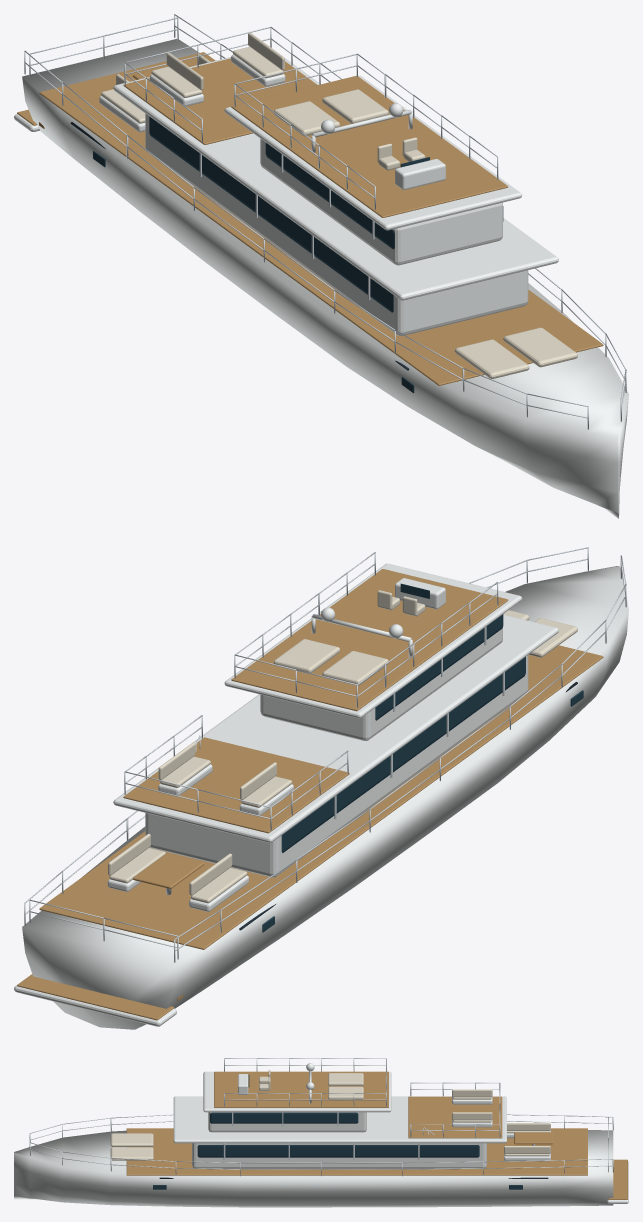
The model's file is SM_NC2_Yacht.fbx.
3 renders of one model, top to bottom at view 1: azimuth 30°, elevation 25°; view 2: azimuth 150°, elevation 25°; view 3: azimuth 270°, elevation 25°, orthographic. The views are drawn at different scales.
Parts seen in each view (by area): view 1: SM_NC2_Yacht; view 2: SM_NC2_Yacht; view 3: SM_NC2_Yacht.
Boxes of the visible parts, x1,y1,x2,y2 form: SM_NC2_Yacht: [14, 14, 628, 518]; SM_NC2_Yacht: [14, 547, 628, 1029]; SM_NC2_Yacht: [14, 1058, 628, 1207].
Size of the model in its own units: 760 by 861 by 3797.
